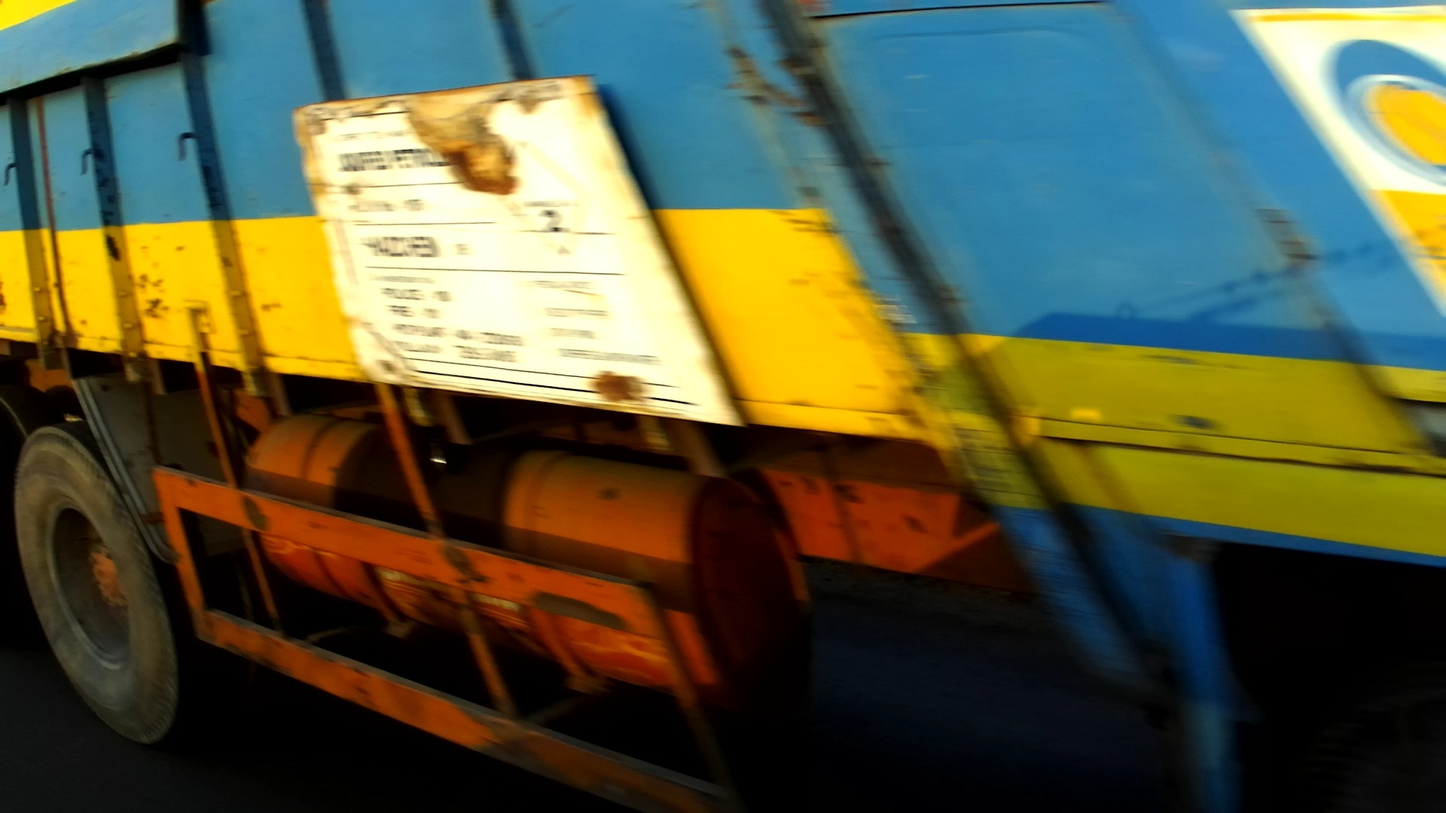truck: (1, 1, 1446, 813)
